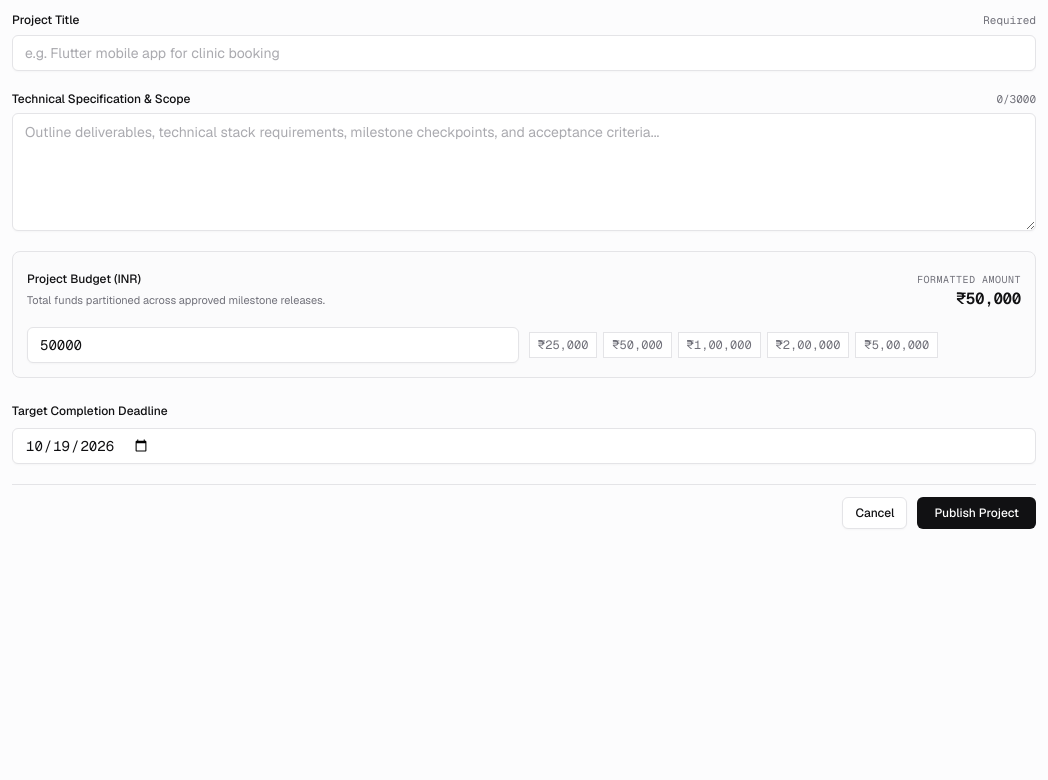
Test: ProjectForm component and interactions › shows validation errors when title is too short
Type "ABC" into the field labelled "Project Title".
click(524, 52); type("ABC")  # box [12,34,1036,70]
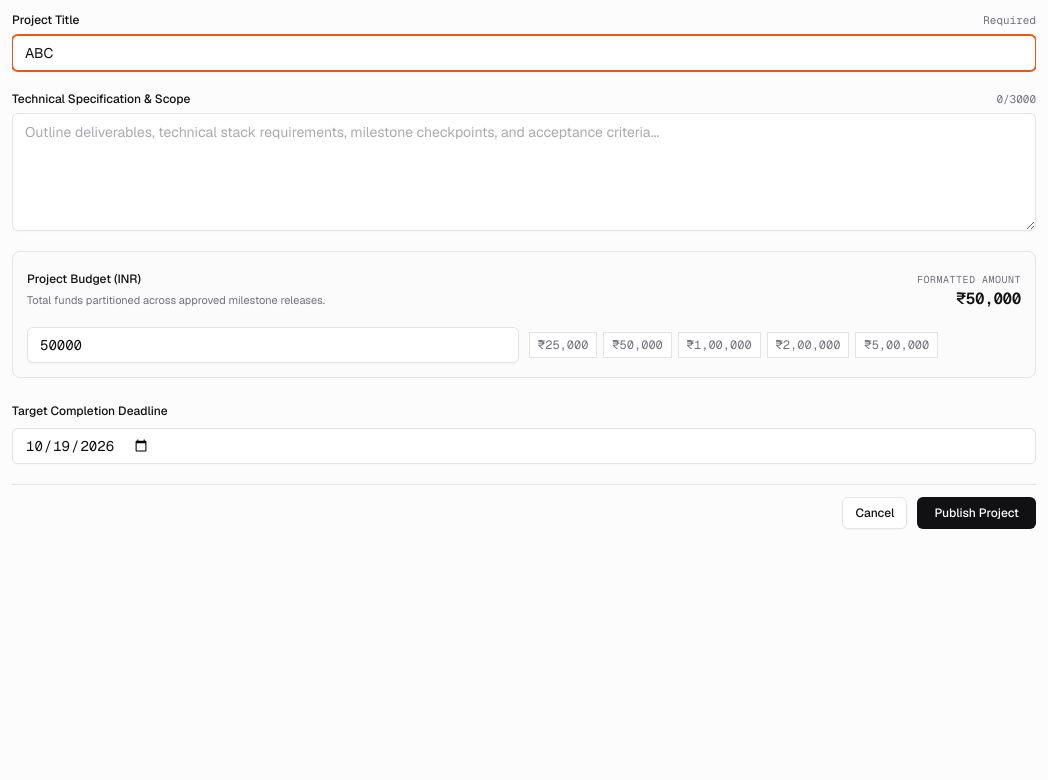
Click the button "Publish Project".
click(977, 513)  # box [918,497,1036,529]
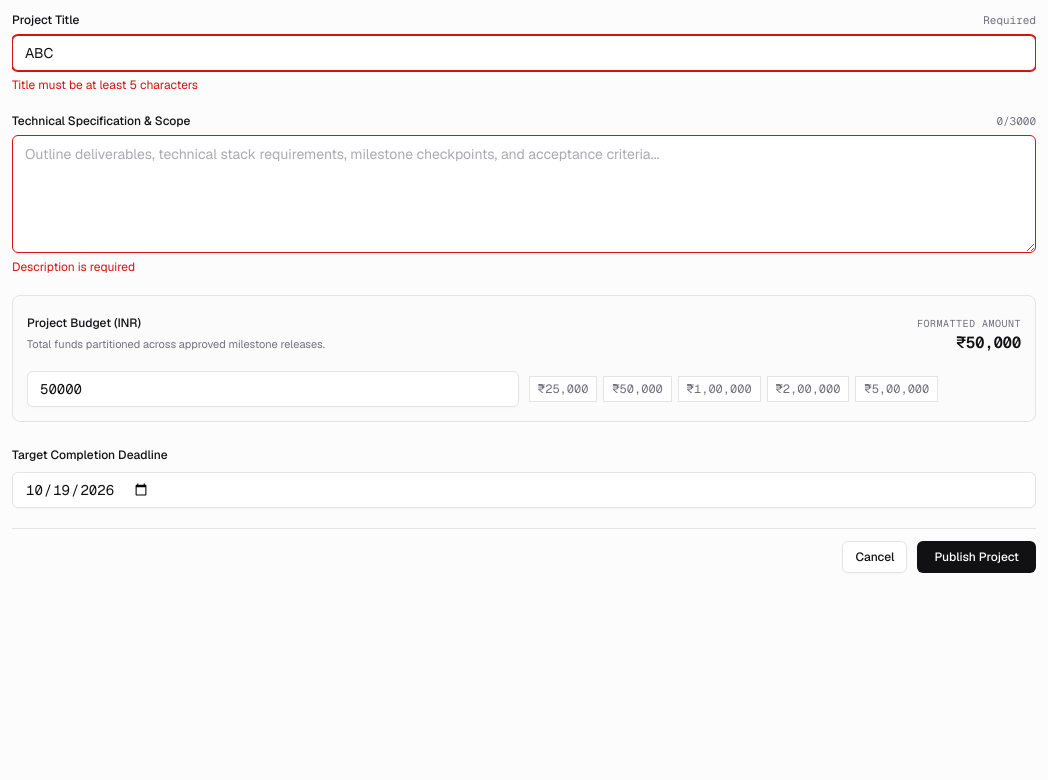
expect the text "Title must be at least 5 characters" is shown: met, box [12,76,198,92]
